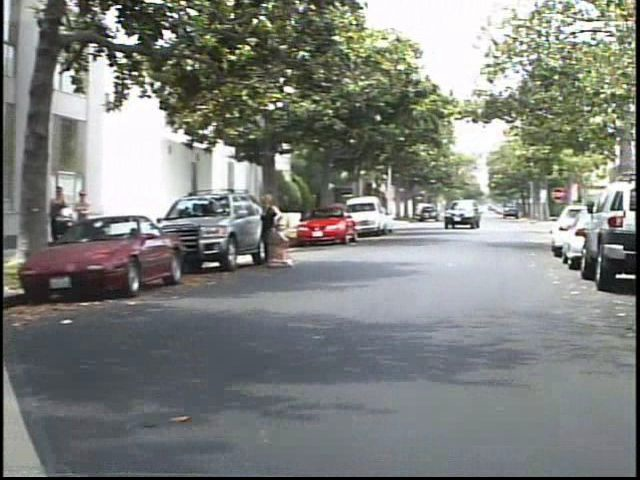person: (263, 191, 296, 275), (58, 184, 84, 255), (85, 185, 109, 250)
